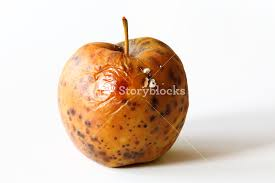damaged_apple: (57, 38, 191, 168)
